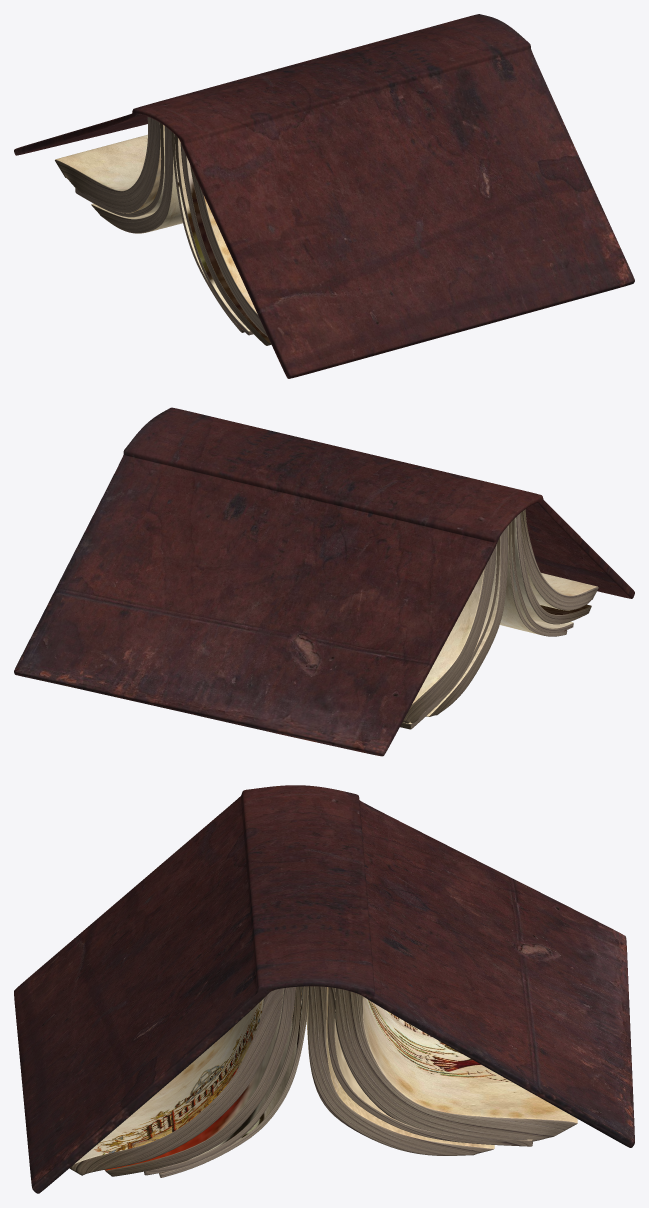
File: libro.obj
The picture shows the model from 3 angles, top to bottom: view 1: azimuth 30°, elevation 25°; view 2: azimuth 150°, elevation 25°; view 3: azimuth 270°, elevation 25°; orthographic projection. The views are drawn at different scales.
Parts seen in each view (by area): view 1: Book_Cover, Page5, Page2, Page, Page1, Page6, Page3, Page4; view 2: Book_Cover, Page5, Page, Page2, Page1, Page4, Page3, Page6; view 3: Book_Cover, Page5, Page, Page2, Page1, Page3, Page6, Page4.
Part boxes in pixels (x1,y1,x2,y2): Book_Cover: (14, 14, 634, 378); Page5: (55, 117, 161, 213); Page2: (91, 126, 182, 233); Page: (190, 165, 267, 336); Page1: (180, 143, 271, 345); Page6: (174, 134, 253, 335); Page3: (75, 123, 164, 217); Page4: (171, 132, 244, 332); Book_Cover: (14, 407, 634, 756); Page5: (403, 545, 496, 723); Page: (520, 509, 598, 610); Page2: (426, 526, 507, 716); Page1: (514, 513, 591, 624); Page4: (499, 522, 567, 636); Page3: (400, 537, 499, 729); Page6: (511, 519, 573, 632); Book_Cover: (14, 785, 634, 1193); Page5: (335, 988, 577, 1141); Page: (69, 988, 283, 1175); Page2: (306, 986, 494, 1155); Page1: (105, 987, 295, 1176); Page3: (326, 987, 532, 1146); Page6: (144, 986, 301, 1175); Page4: (159, 986, 308, 1177).
Size of the model in its own units: 1.71 by 0.7994 by 2.13.
